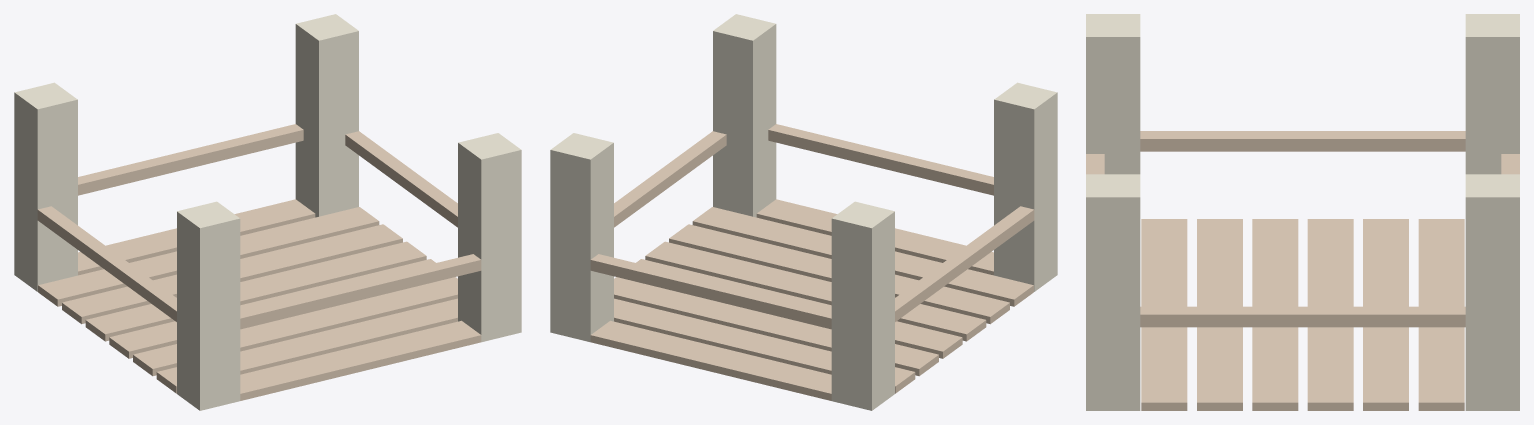
File: towerSquareMidOpenHalf.fbx
The picture shows the model from 3 angles, left to right: view 1: azimuth 30°, elevation 25°; view 2: azimuth 150°, elevation 25°; view 3: azimuth 270°, elevation 25°; orthographic projection. The views are drawn at different scales.
Parts seen in each view (by area): view 1: towerSquareMidOpenHalf, towerSquareMidOpenHalf_cell.013, towerSquareMidOpenHalf_cell.002, towerSquareMidOpenHalf_cell, towerSquareMidOpenHalf_cell.007, towerSquareMidOpenHalf_cell.024, towerSquareMidOpenHalf_cell.010, towerSquareMidOpenHalf_cell.014, towerSquareMidOpenHalf_cell.025, towerSquareMidOpenHalf_cell.026, towerSquareMidOpenHalf_cell.009, towerSquareMidOpenHalf_cell.034 (+5 smaller); view 2: towerSquareMidOpenHalf, towerSquareMidOpenHalf_cell, towerSquareMidOpenHalf_cell.024, towerSquareMidOpenHalf_cell.013, towerSquareMidOpenHalf_cell.003, towerSquareMidOpenHalf_cell.008, towerSquareMidOpenHalf_cell.017, towerSquareMidOpenHalf_cell.010, towerSquareMidOpenHalf_cell.009, towerSquareMidOpenHalf_cell.016, towerSquareMidOpenHalf_cell.020, towerSquareMidOpenHalf_cell.002 (+10 smaller); view 3: towerSquareMidOpenHalf, towerSquareMidOpenHalf_cell.024, towerSquareMidOpenHalf_cell.003, towerSquareMidOpenHalf_cell.010, towerSquareMidOpenHalf_cell.009, towerSquareMidOpenHalf_cell.033, towerSquareMidOpenHalf_cell.032, towerSquareMidOpenHalf_cell, towerSquareMidOpenHalf_cell.012, towerSquareMidOpenHalf_cell.008, towerSquareMidOpenHalf_cell.027, towerSquareMidOpenHalf_cell.007 (+7 smaller).
Boxes of the visible parts, bbox=[...] form: towerSquareMidOpenHalf: bbox=[14, 14, 521, 410]; towerSquareMidOpenHalf_cell.013: bbox=[295, 14, 358, 199]; towerSquareMidOpenHalf_cell.002: bbox=[353, 230, 521, 373]; towerSquareMidOpenHalf_cell: bbox=[177, 202, 352, 409]; towerSquareMidOpenHalf_cell.007: bbox=[240, 225, 400, 281]; towerSquareMidOpenHalf_cell.024: bbox=[37, 99, 77, 287]; towerSquareMidOpenHalf_cell.010: bbox=[134, 314, 315, 375]; towerSquareMidOpenHalf_cell.014: bbox=[145, 125, 303, 177]; towerSquareMidOpenHalf_cell.025: bbox=[38, 251, 176, 302]; towerSquareMidOpenHalf_cell.026: bbox=[78, 163, 149, 195]; towerSquareMidOpenHalf_cell.009: bbox=[112, 299, 273, 351]; towerSquareMidOpenHalf_cell.034: bbox=[259, 215, 378, 253]; towerSquareMidOpenHalf: bbox=[550, 14, 1057, 410]; towerSquareMidOpenHalf_cell: bbox=[895, 92, 1057, 288]; towerSquareMidOpenHalf_cell.024: bbox=[831, 207, 894, 406]; towerSquareMidOpenHalf_cell.013: bbox=[550, 133, 613, 318]; towerSquareMidOpenHalf_cell.003: bbox=[713, 25, 776, 128]; towerSquareMidOpenHalf_cell.008: bbox=[895, 251, 1033, 306]; towerSquareMidOpenHalf_cell.017: bbox=[617, 327, 744, 370]; towerSquareMidOpenHalf_cell.010: bbox=[822, 272, 1009, 324]; towerSquareMidOpenHalf_cell.009: bbox=[811, 290, 986, 341]; towerSquareMidOpenHalf_cell.016: bbox=[641, 317, 752, 353]; towerSquareMidOpenHalf_cell.020: bbox=[768, 130, 896, 171]; towerSquareMidOpenHalf_cell.002: bbox=[713, 112, 776, 213]; towerSquareMidOpenHalf: bbox=[1086, 14, 1519, 410]; towerSquareMidOpenHalf_cell.024: bbox=[1465, 14, 1519, 174]; towerSquareMidOpenHalf_cell.003: bbox=[1086, 197, 1140, 299]; towerSquareMidOpenHalf_cell.010: bbox=[1197, 219, 1242, 306]; towerSquareMidOpenHalf_cell.009: bbox=[1252, 219, 1298, 306]; towerSquareMidOpenHalf_cell.033: bbox=[1252, 327, 1298, 410]; towerSquareMidOpenHalf_cell.032: bbox=[1307, 306, 1353, 410]; towerSquareMidOpenHalf_cell: bbox=[1086, 14, 1140, 174]; towerSquareMidOpenHalf_cell.012: bbox=[1140, 131, 1303, 151]; towerSquareMidOpenHalf_cell.008: bbox=[1141, 219, 1185, 306]; towerSquareMidOpenHalf_cell.027: bbox=[1303, 131, 1465, 151]; towerSquareMidOpenHalf_cell.007: bbox=[1363, 327, 1408, 409].
Bounding box in the file's own units: 930 × 505 × 930.
